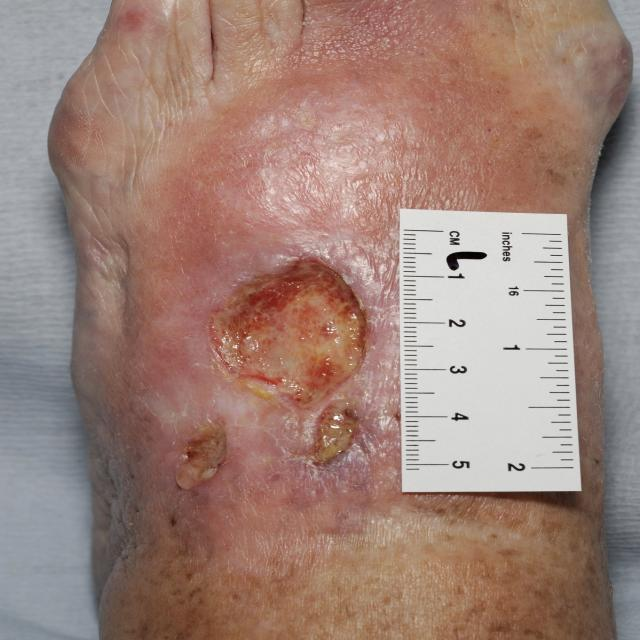wound: (178, 257, 375, 483)
